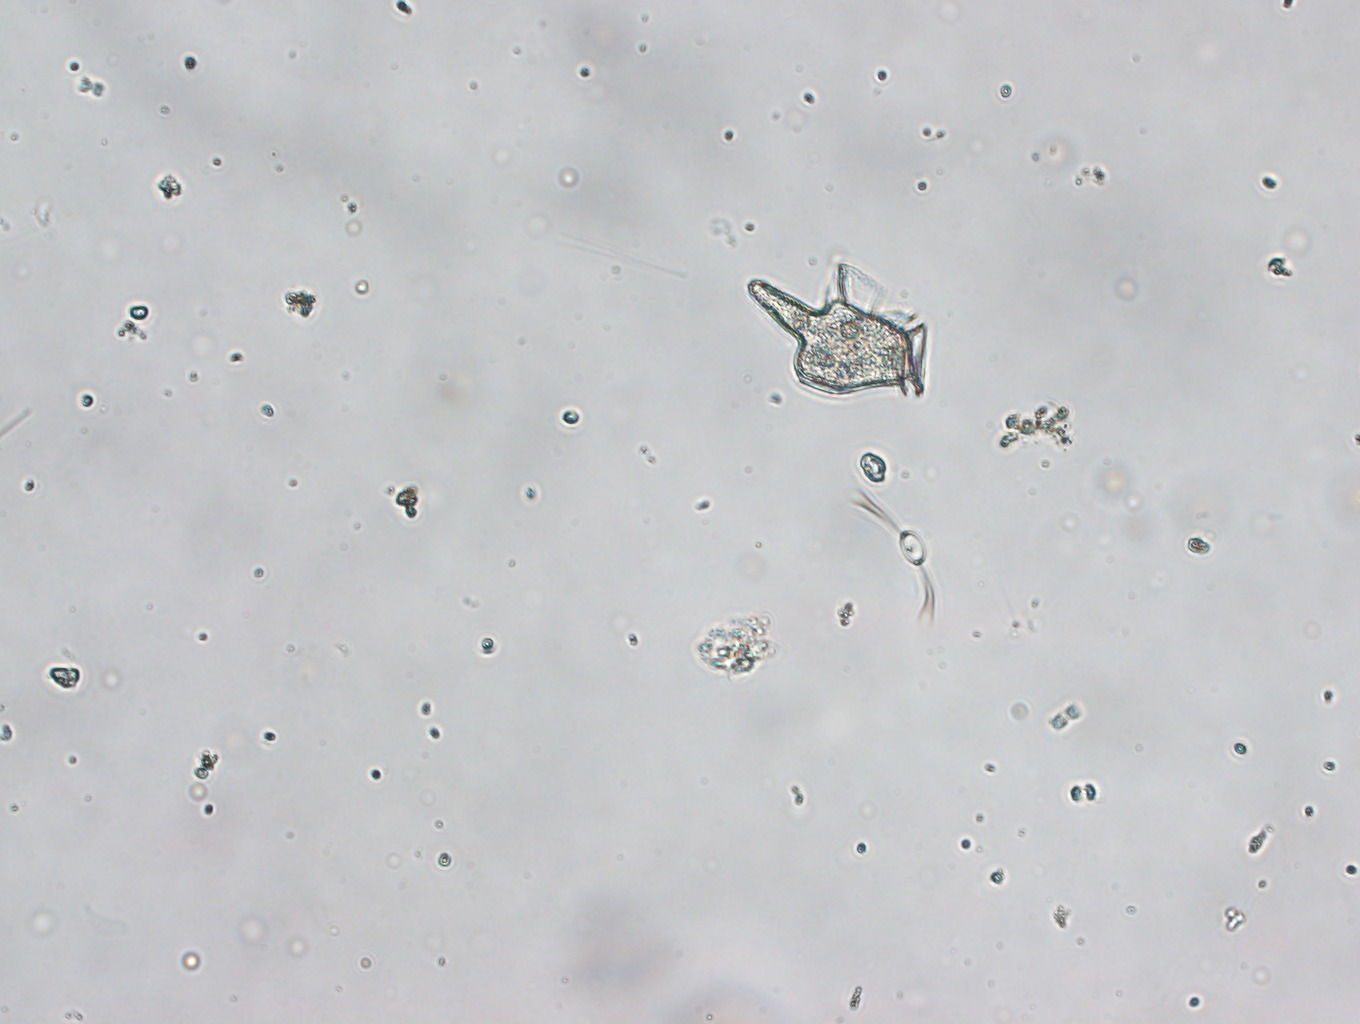chaetoceros: (834, 477, 953, 630)
dinophysis caudata: (735, 253, 942, 408)
